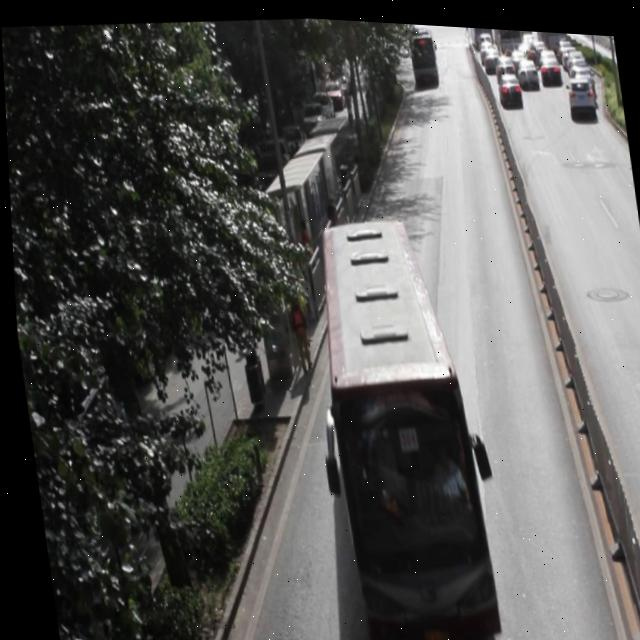van: (303, 206, 494, 639)
